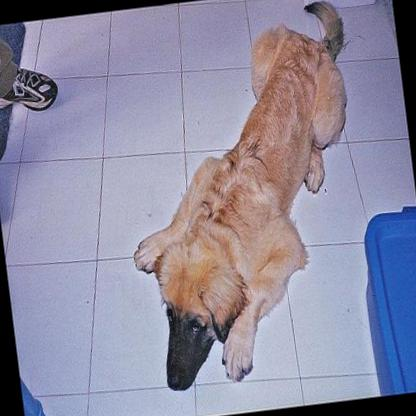Leonberg: (101, 0, 384, 393)
